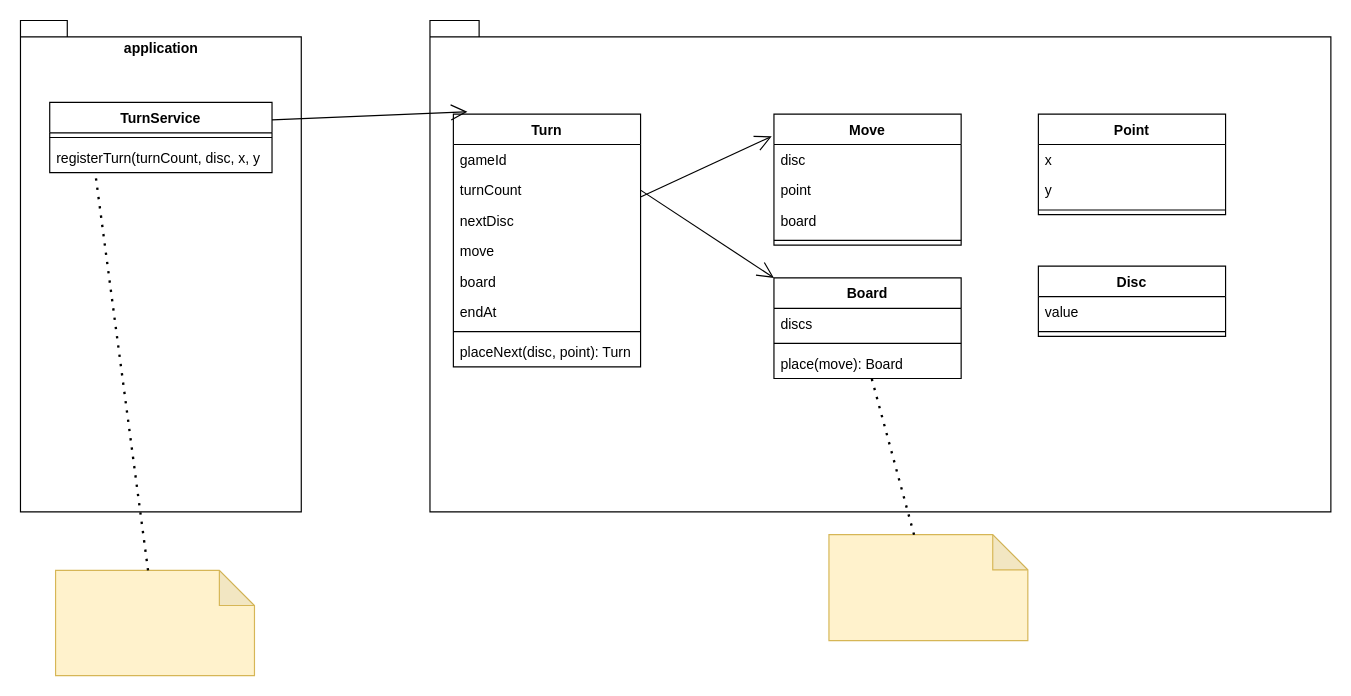
The diagram is 1351 pixels wide and 696 high, and some of its shapes have lost their labels. Each missing label, with the box of its shape:
domain: (429, 19, 1331, 512)
placeの内部では ・盤面に置けるかチェック ・石を置く ・ひっくり返す: (828, 534, 1028, 641)
・一つ前のターンを取得する ・石を置く ・ターンを保存する: (54, 569, 254, 676)
